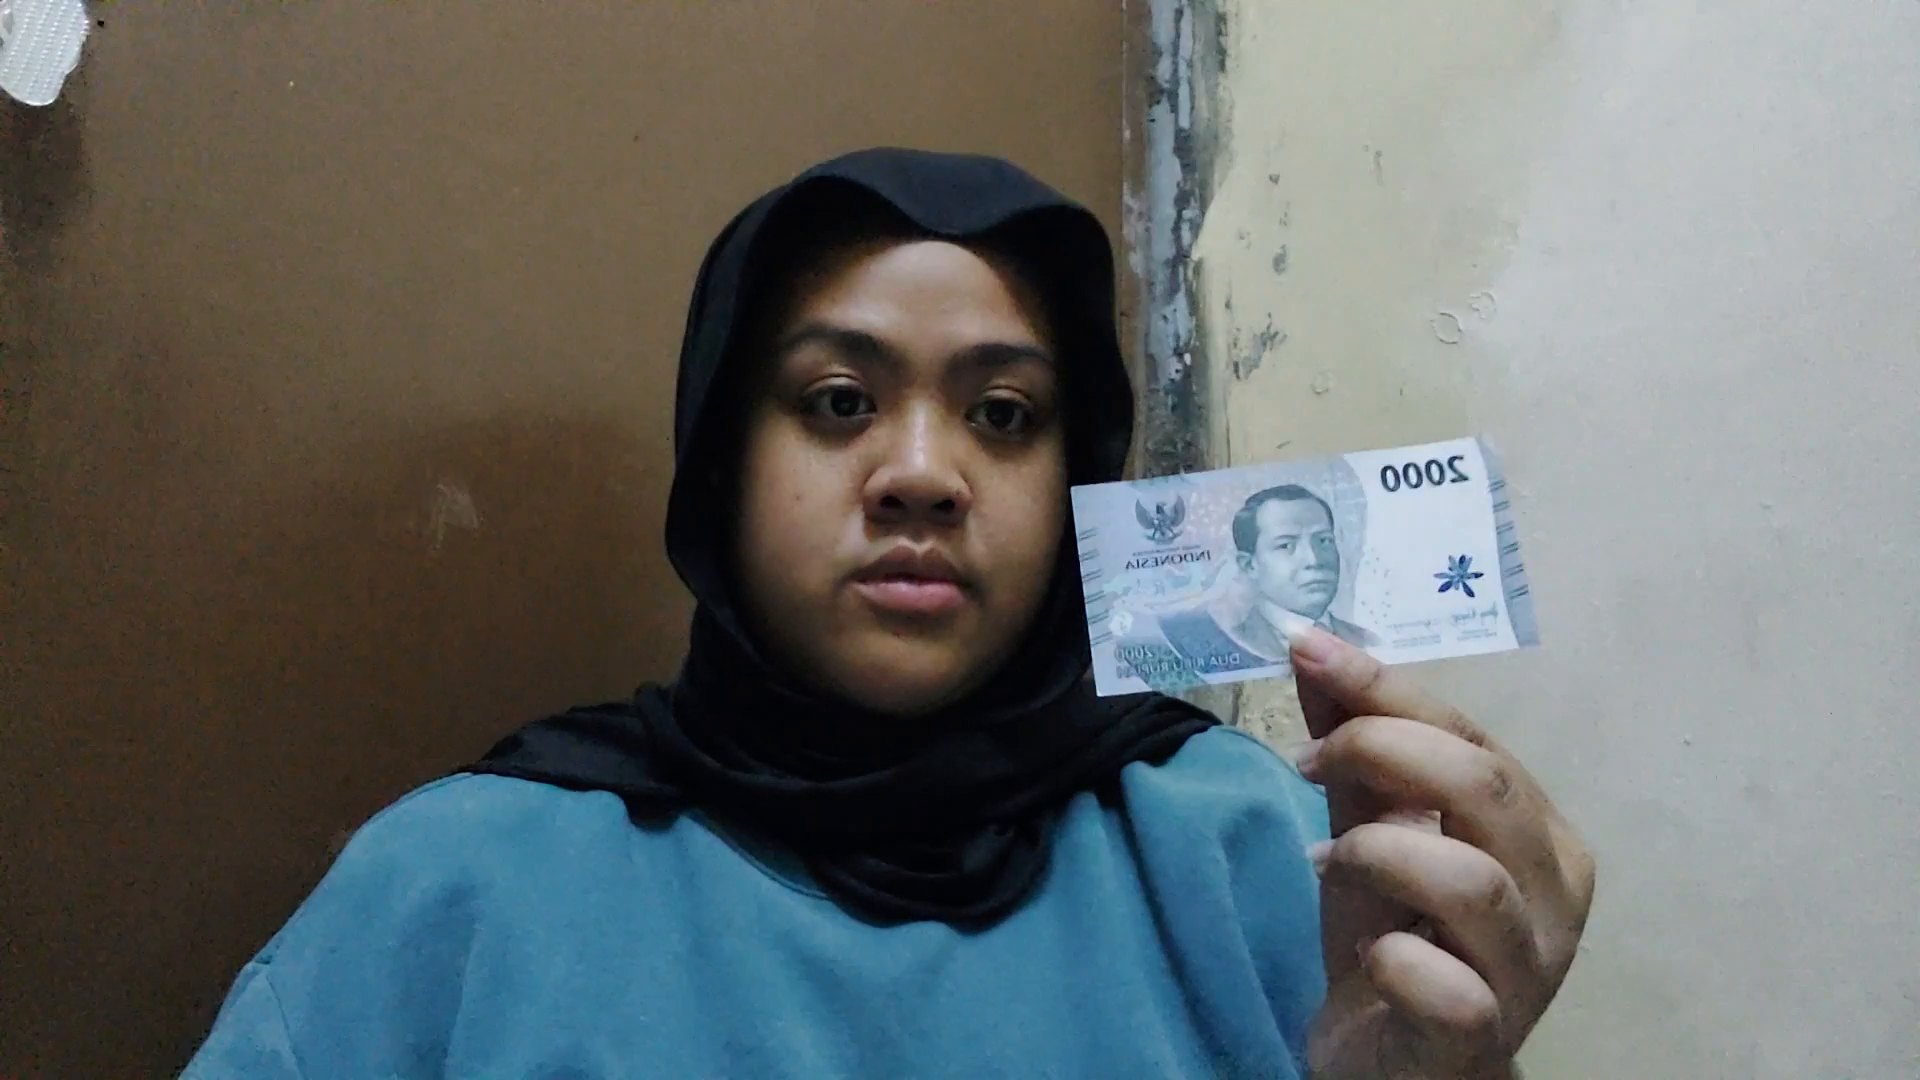2k: (1069, 483, 1514, 713)
